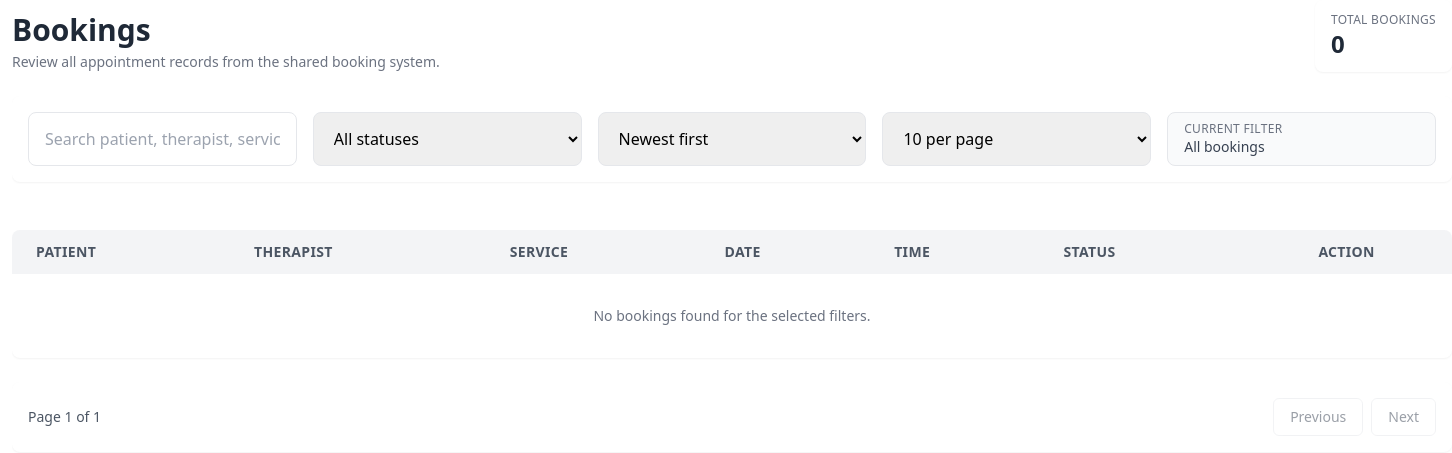
Test case: BookingsList › refetches when the user changes filters
Select "Pending" in the dropdown named "Filter by booking status" at (447,139), box [313,112,582,166]
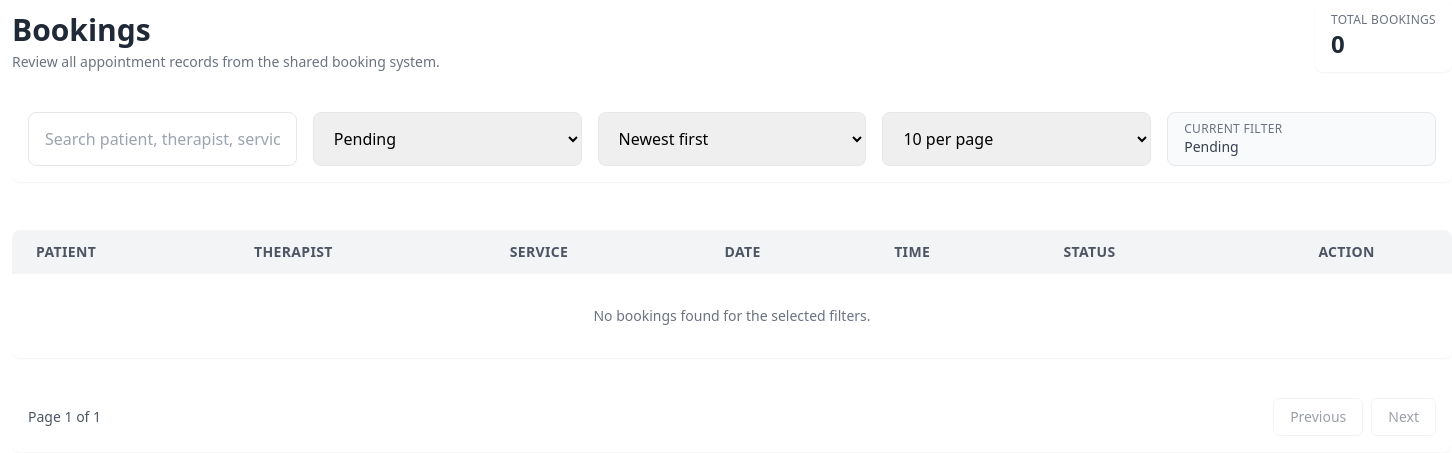
Result: the dropdown named "Filter by booking status" shows "Pending" at [313,112,582,166]
